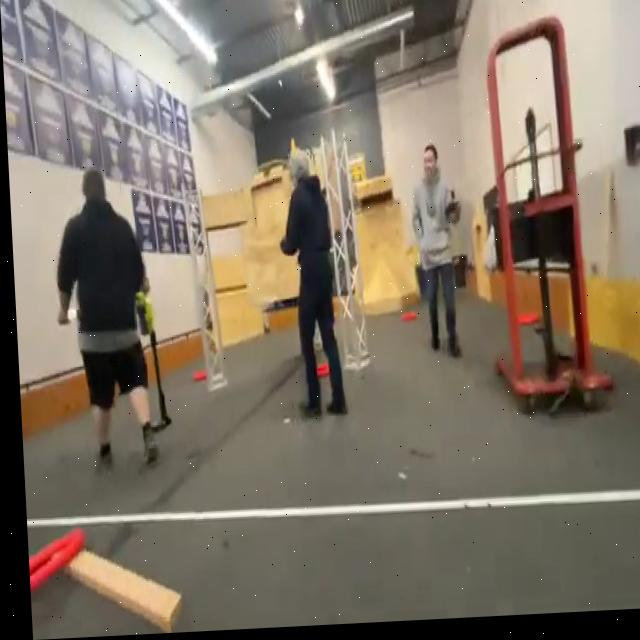note: (22, 526, 84, 591), (396, 313, 416, 328), (313, 363, 327, 381), (187, 371, 203, 384)
